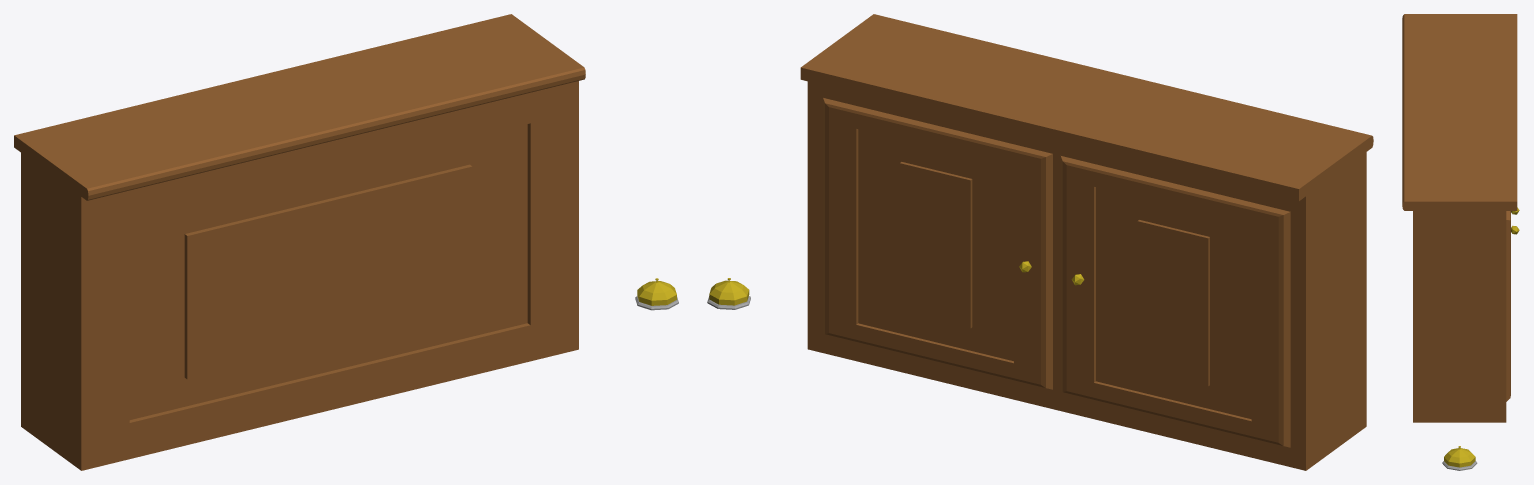
The model's file is Reception Desk.fbx.
3 views of the same model, side by side, from view 1: azimuth 30°, elevation 25°; view 2: azimuth 150°, elevation 25°; view 3: azimuth 270°, elevation 25° (orthographic). The views are drawn at different scales.
Parts seen in each view (by area): view 1: Receptionist Desk, Reception bell; view 2: Receptionist Desk, Reception bell; view 3: Receptionist Desk, Reception bell.
Part boxes in pixels (box(x1,y1,x2,y2)): Receptionist Desk: box(14, 14, 585, 470); Reception bell: box(635, 278, 678, 310); Receptionist Desk: box(800, 14, 1373, 470); Reception bell: box(707, 278, 750, 309); Receptionist Desk: box(1402, 14, 1519, 422); Reception bell: box(1442, 446, 1477, 470).
Size of the model in its own units: 2.51 by 1.1 by 0.5287.
